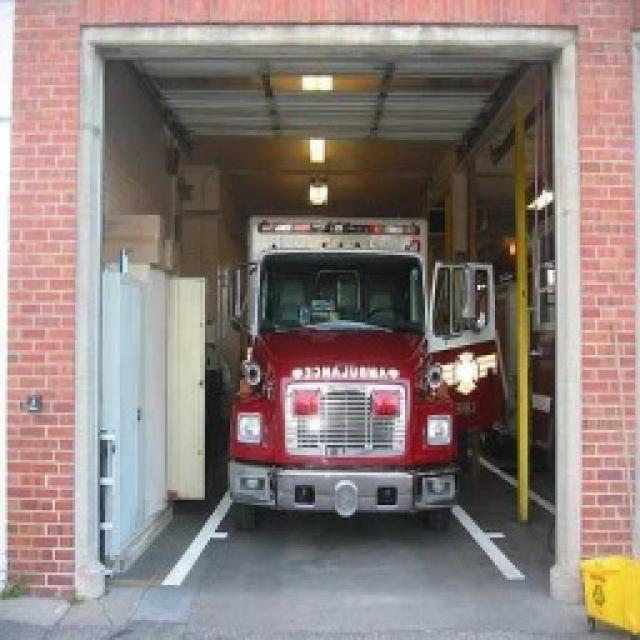ambulance: (230, 218, 505, 518)
